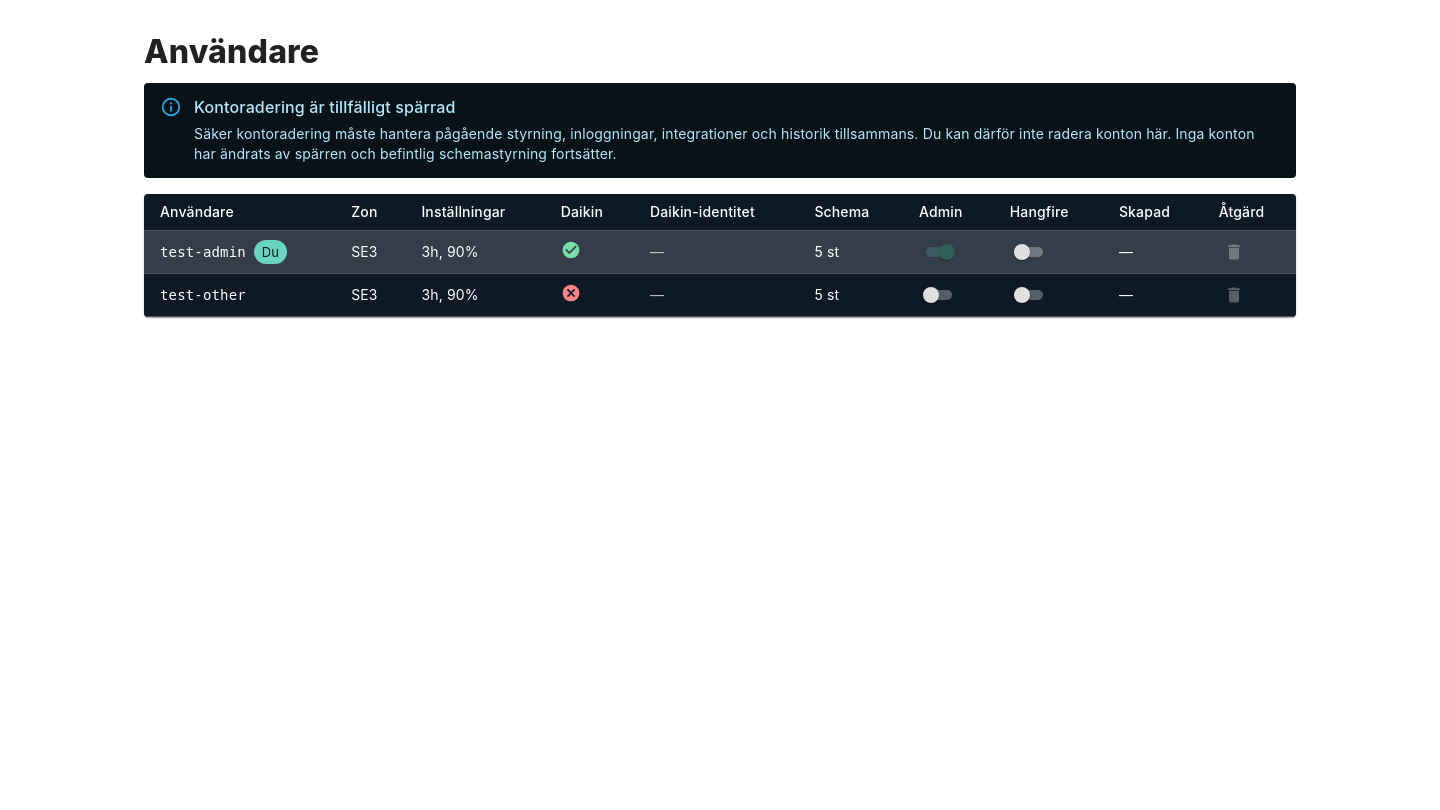
Scenario: AdminPage säker kontolivscykel › visar inte råa fel eller falsk framgång efter en misslyckad behörighetsändring
Click the switch named "Adminbehörighet för test-other". click: (931, 295)
box: [923,287,939,303]
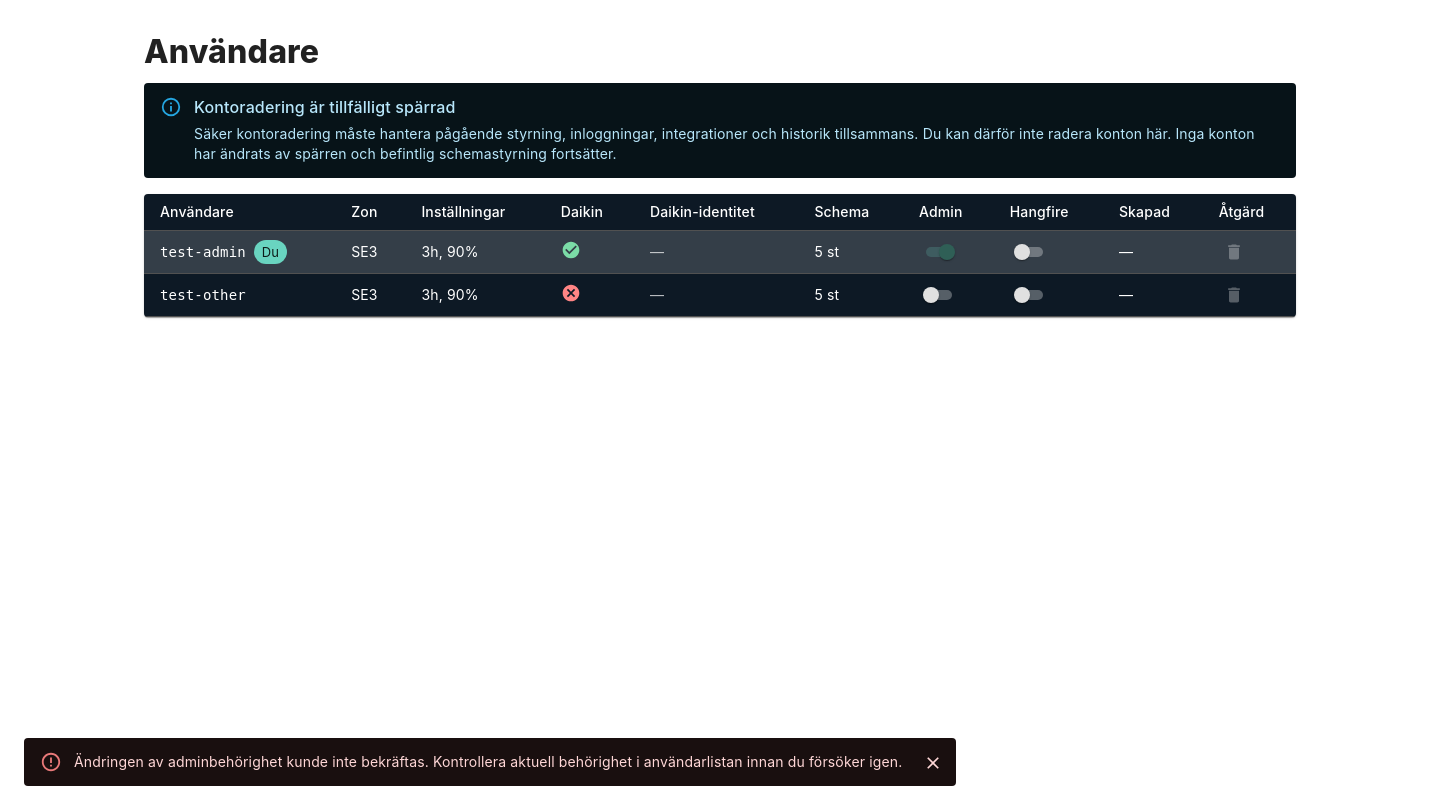
Result: the message shows "Ändringen av adminbehörighet kunde inte bekräftas" at [74,753,902,770]
